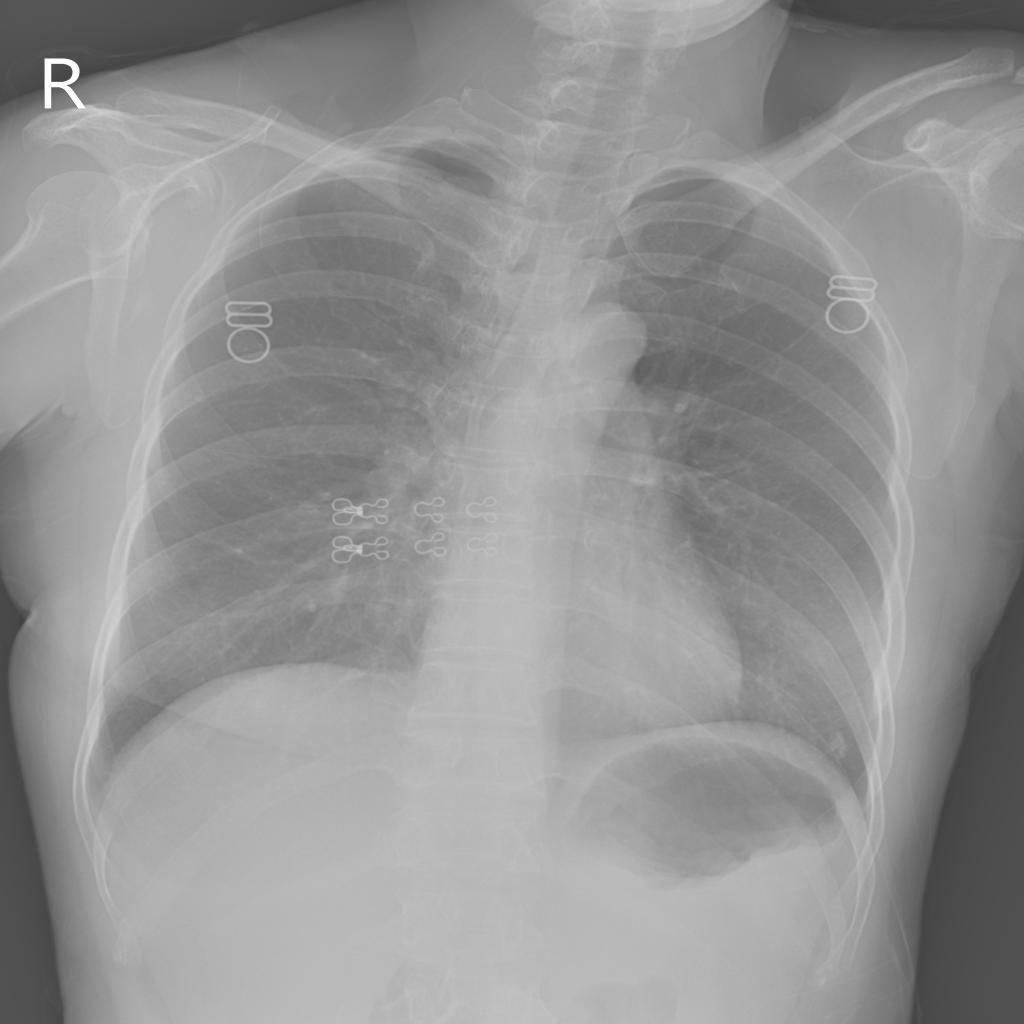Nodule: (827, 731, 850, 760)
